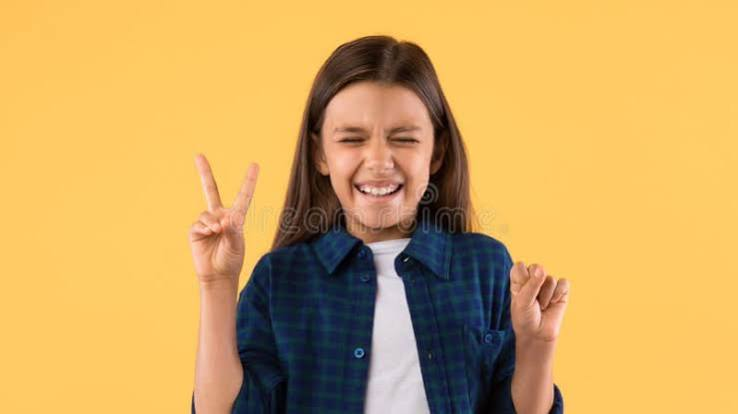peace_sign: (185, 147, 261, 272)
